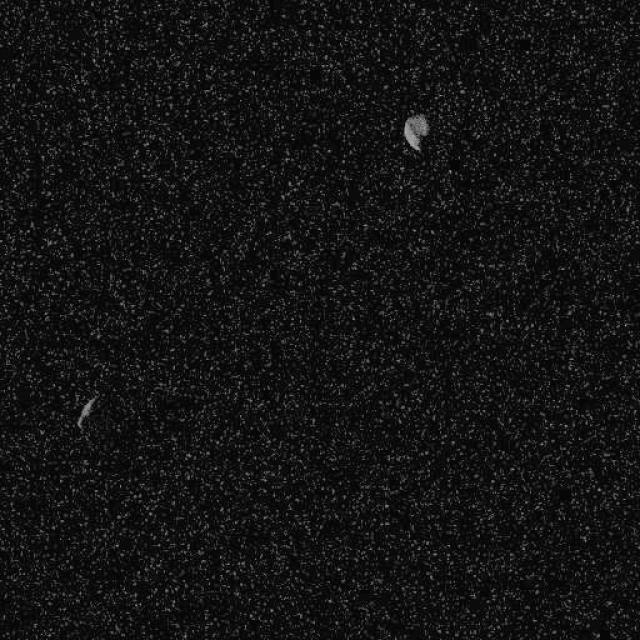D2: (402, 111, 428, 152), (75, 394, 99, 430)
